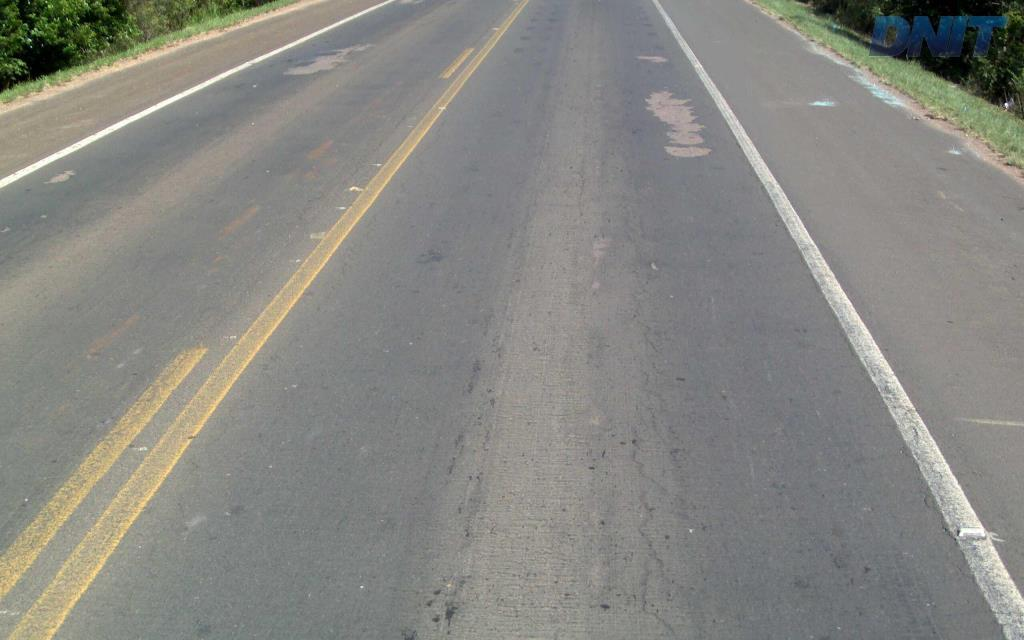pothole: (643, 80, 725, 165), (624, 48, 670, 64)
